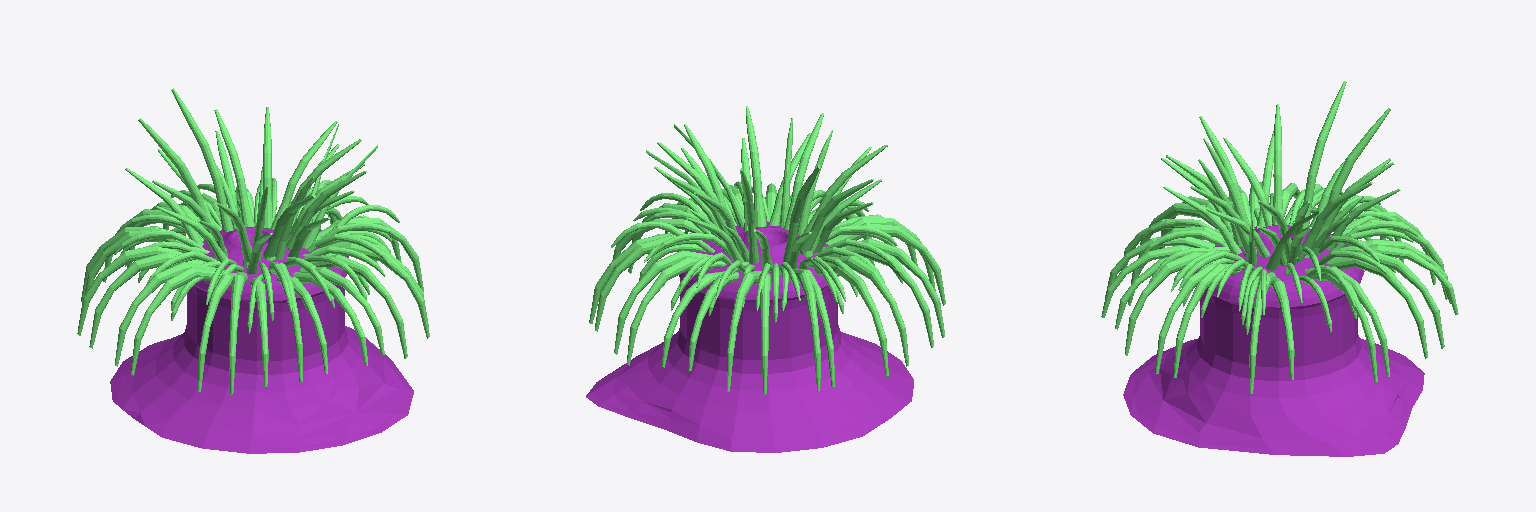
File: Anemone_1.obj
The picture shows the model from 3 angles: view 1: azimuth 30°, elevation 25°; view 2: azimuth 150°, elevation 25°; view 3: azimuth 270°, elevation 25°; orthographic projection.
Parts seen in each view (by area): view 1: Cylinder001, Line084, Line077, Line025, Line007, Line002, Line071, Line088, Line018, Line072, Line016, Line030 (+15 smaller); view 2: Cylinder001, Line011, Line061, Line077, Line018, Line007, Line084, Line091, Line009, Line002, Line054, Line008 (+17 smaller); view 3: Cylinder001, Line011, Line089, Line071, Line061, Line079, Line016, Line012, Line051, Line025, Line004, Line054 (+13 smaller).
Part boxes in pixels (x1,y1,x2,y2): Cylinder001: (110, 226, 413, 453); Line084: (131, 267, 223, 375); Line077: (89, 252, 205, 348); Line025: (171, 88, 233, 231); Line007: (77, 246, 200, 335); Line002: (115, 262, 216, 366); Line071: (310, 254, 407, 358); Line088: (214, 109, 254, 226); Line018: (198, 272, 240, 391); Line072: (229, 272, 247, 394); Line016: (332, 243, 429, 338); Line030: (263, 107, 272, 228); Cylinder001: (586, 222, 913, 452); Line011: (614, 250, 712, 354); Line061: (627, 257, 712, 365); Line077: (835, 256, 908, 366); Line018: (826, 223, 945, 305); Line007: (815, 263, 888, 376); Line084: (845, 238, 944, 337); Line091: (746, 106, 766, 227); Line009: (727, 271, 761, 391); Line002: (829, 246, 933, 347); Line054: (595, 235, 695, 331); Line008: (797, 272, 820, 391); Cylinder001: (1123, 225, 1424, 456); Line011: (1327, 258, 1427, 358); Line089: (1303, 81, 1346, 228); Line071: (1125, 252, 1203, 355); Line061: (1333, 251, 1444, 348); Line079: (1174, 264, 1240, 377); Line016: (1155, 263, 1216, 373); Line012: (1369, 245, 1458, 314); Line051: (1101, 245, 1193, 317); Line025: (1327, 108, 1390, 204); Line004: (1272, 104, 1283, 224); Line054: (1305, 266, 1389, 377).
Size of the model in its own units: 42.14 by 35.3 by 42.39.